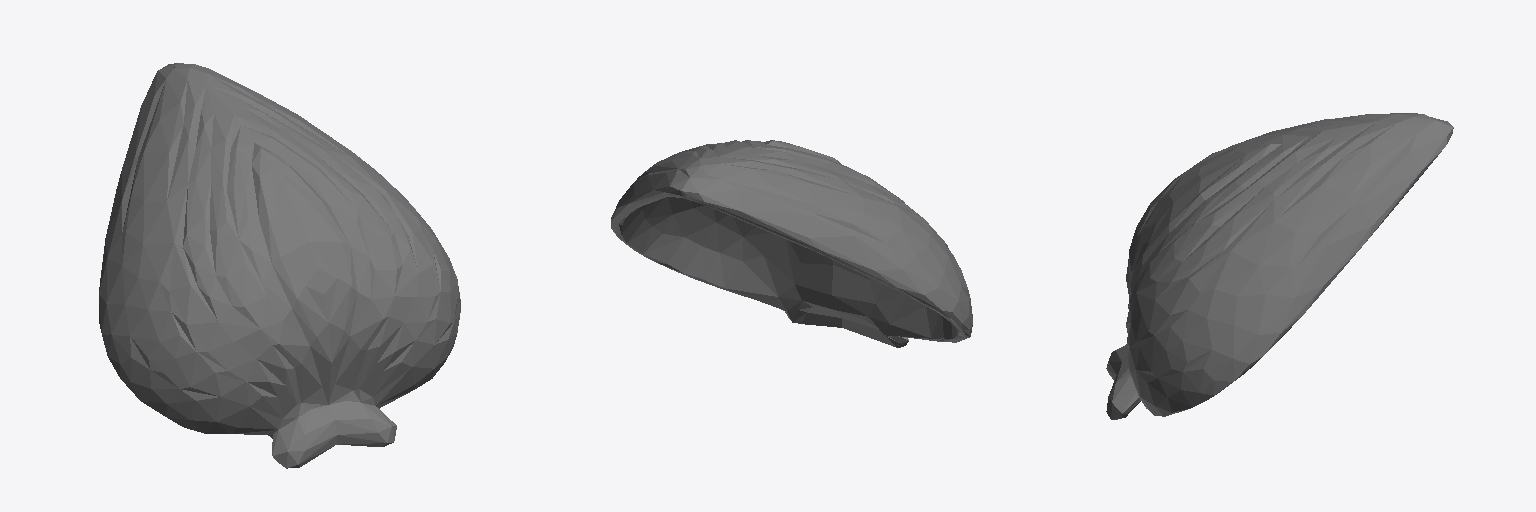
File: Clam_Spade_top.obj
3 views of the same model, side by side, from view 1: azimuth 30°, elevation 25°; view 2: azimuth 150°, elevation 25°; view 3: azimuth 270°, elevation 25° (orthographic).
Size of the model in its own units: 8.9 by 6.91 by 7.82.